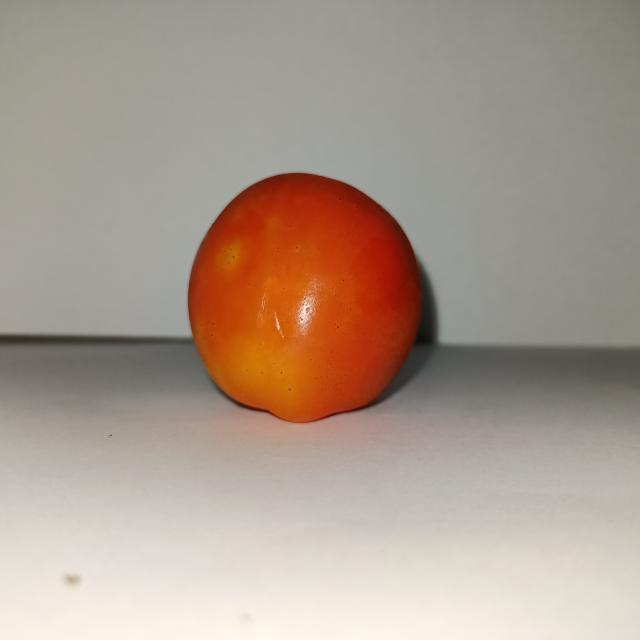Red: (186, 170, 423, 423)
